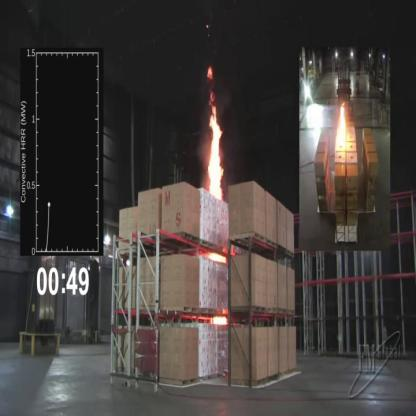fire: (201, 60, 226, 205)
